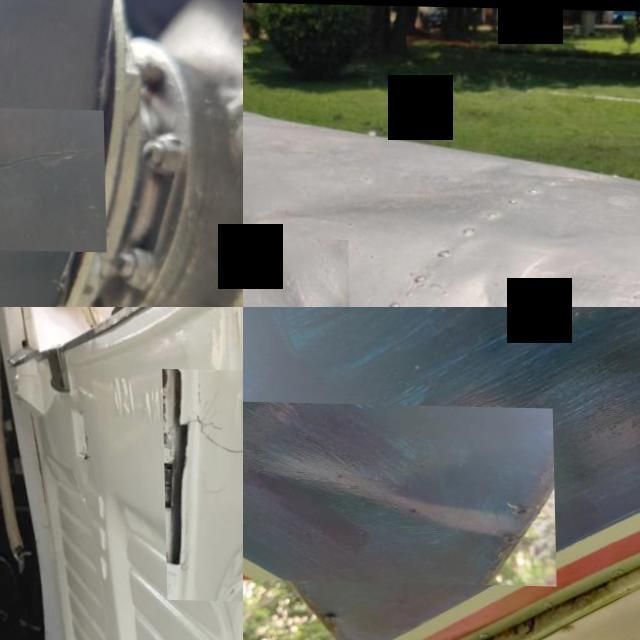Crack: (161, 367, 243, 600), (0, 102, 105, 249)
Dent: (243, 401, 554, 584), (416, 232, 640, 307), (243, 236, 349, 307)
